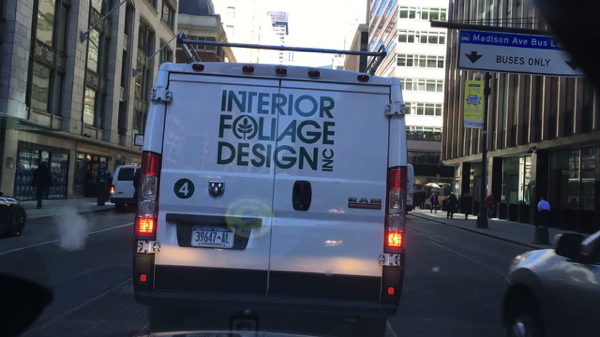car: (500, 229, 599, 337), (109, 162, 144, 214), (0, 191, 28, 239)
person: (30, 162, 54, 211), (536, 195, 551, 229), (444, 191, 457, 220), (103, 172, 114, 204), (461, 191, 472, 221), (484, 191, 495, 220), (429, 192, 440, 214), (418, 188, 426, 210), (412, 190, 418, 210)
traffic sign: (457, 29, 586, 78), (99, 171, 105, 177)
truck: (131, 30, 408, 337), (405, 162, 415, 213)
